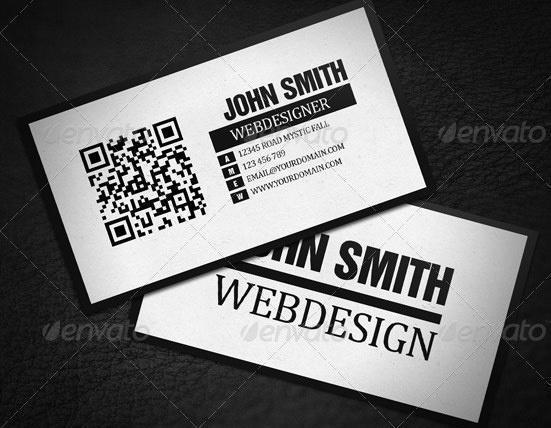qr_code: (79, 116, 207, 247)
